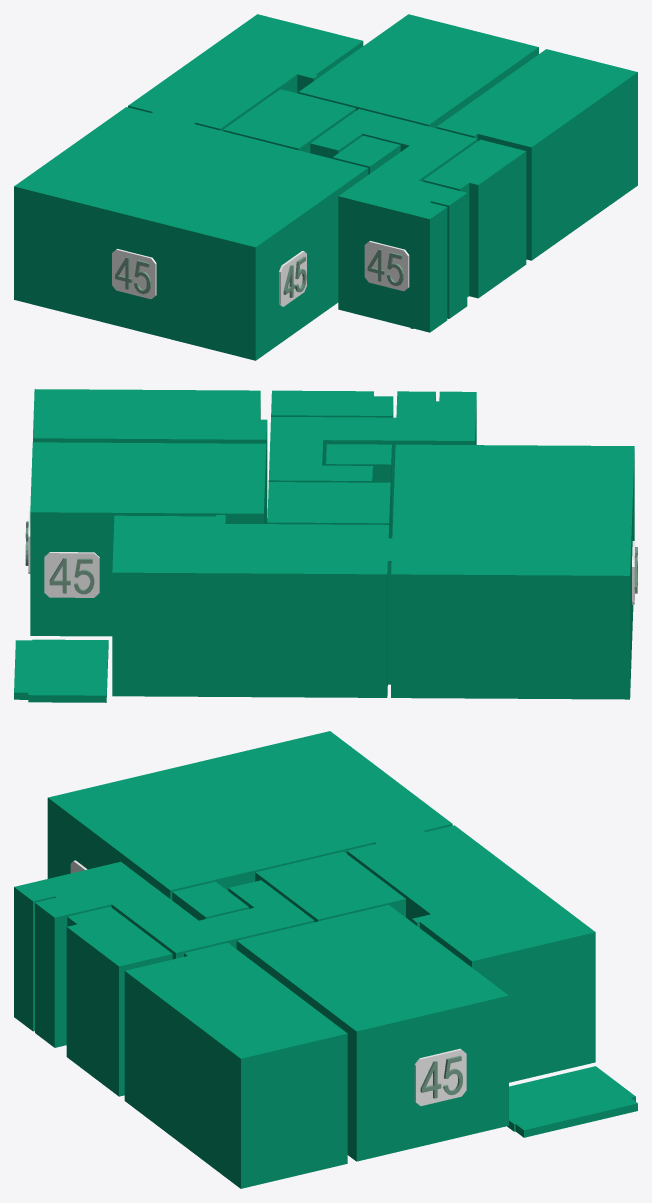
The picture shows the model from 3 angles, top to bottom: view 1: azimuth 30°, elevation 25°; view 2: azimuth 150°, elevation 25°; view 3: azimuth 270°, elevation 25°; orthographic projection. The views are drawn at different scales.
Visible parts, largest first — view 1: g_7, g_1, g_3, g_0, g_6, g_2, g_4, g_5, g_14, g_17, g_11; view 2: g_7, g_6, g_0, g_1, g_3, g_8, g_4, g_2, g_20, g_5; view 3: g_1, g_7, g_0, g_6, g_3, g_2, g_8, g_4, g_23, g_5.
Part boxes in pixels (x1=…): g_7: x1=14, y1=107, x2=368, y2=360; g_1: x1=436, y1=49, x2=637, y2=260; g_3: x1=310, y1=109, x2=477, y2=332; g_0: x1=298, y1=14, x2=538, y2=128; g_6: x1=128, y1=14, x2=363, y2=130; g_2: x1=423, y1=139, x2=526, y2=298; g_4: x1=223, y1=89, x2=355, y2=152; g_5: x1=332, y1=135, x2=400, y2=174; g_14: x1=364, y1=241, x2=409, y2=291; g_17: x1=112, y1=249, x2=156, y2=299; g_11: x1=279, y1=251, x2=306, y2=306; g_7: x1=389, y1=444, x2=634, y2=699; g_6: x1=112, y1=515, x2=390, y2=697; g_0: x1=30, y1=442, x2=266, y2=636; g_1: x1=33, y1=389, x2=267, y2=523; g_3: x1=268, y1=391, x2=476, y2=537; g_8: x1=14, y1=639, x2=108, y2=702; g_4: x1=267, y1=482, x2=390, y2=538; g_2: x1=271, y1=390, x2=393, y2=417; g_20: x1=44, y1=552, x2=99, y2=597; g_5: x1=326, y1=444, x2=391, y2=538; g_1: x1=124, y1=943, x2=347, y2=1188; g_7: x1=47, y1=731, x2=452, y2=900; g_0: x1=236, y1=905, x2=508, y2=1161; g_6: x1=347, y1=825, x2=595, y2=1082; g_3: x1=14, y1=861, x2=314, y2=1047; g_2: x1=66, y1=906, x2=172, y2=1096; g_8: x1=507, y1=1066, x2=637, y2=1137; g_4: x1=255, y1=851, x2=405, y2=922; g_23: x1=414, y1=1048, x2=466, y2=1105; g_5: x1=172, y1=881, x2=248, y2=920.
Bounding box in the file's own units: 13.9 × 2.74 × 11.18.
